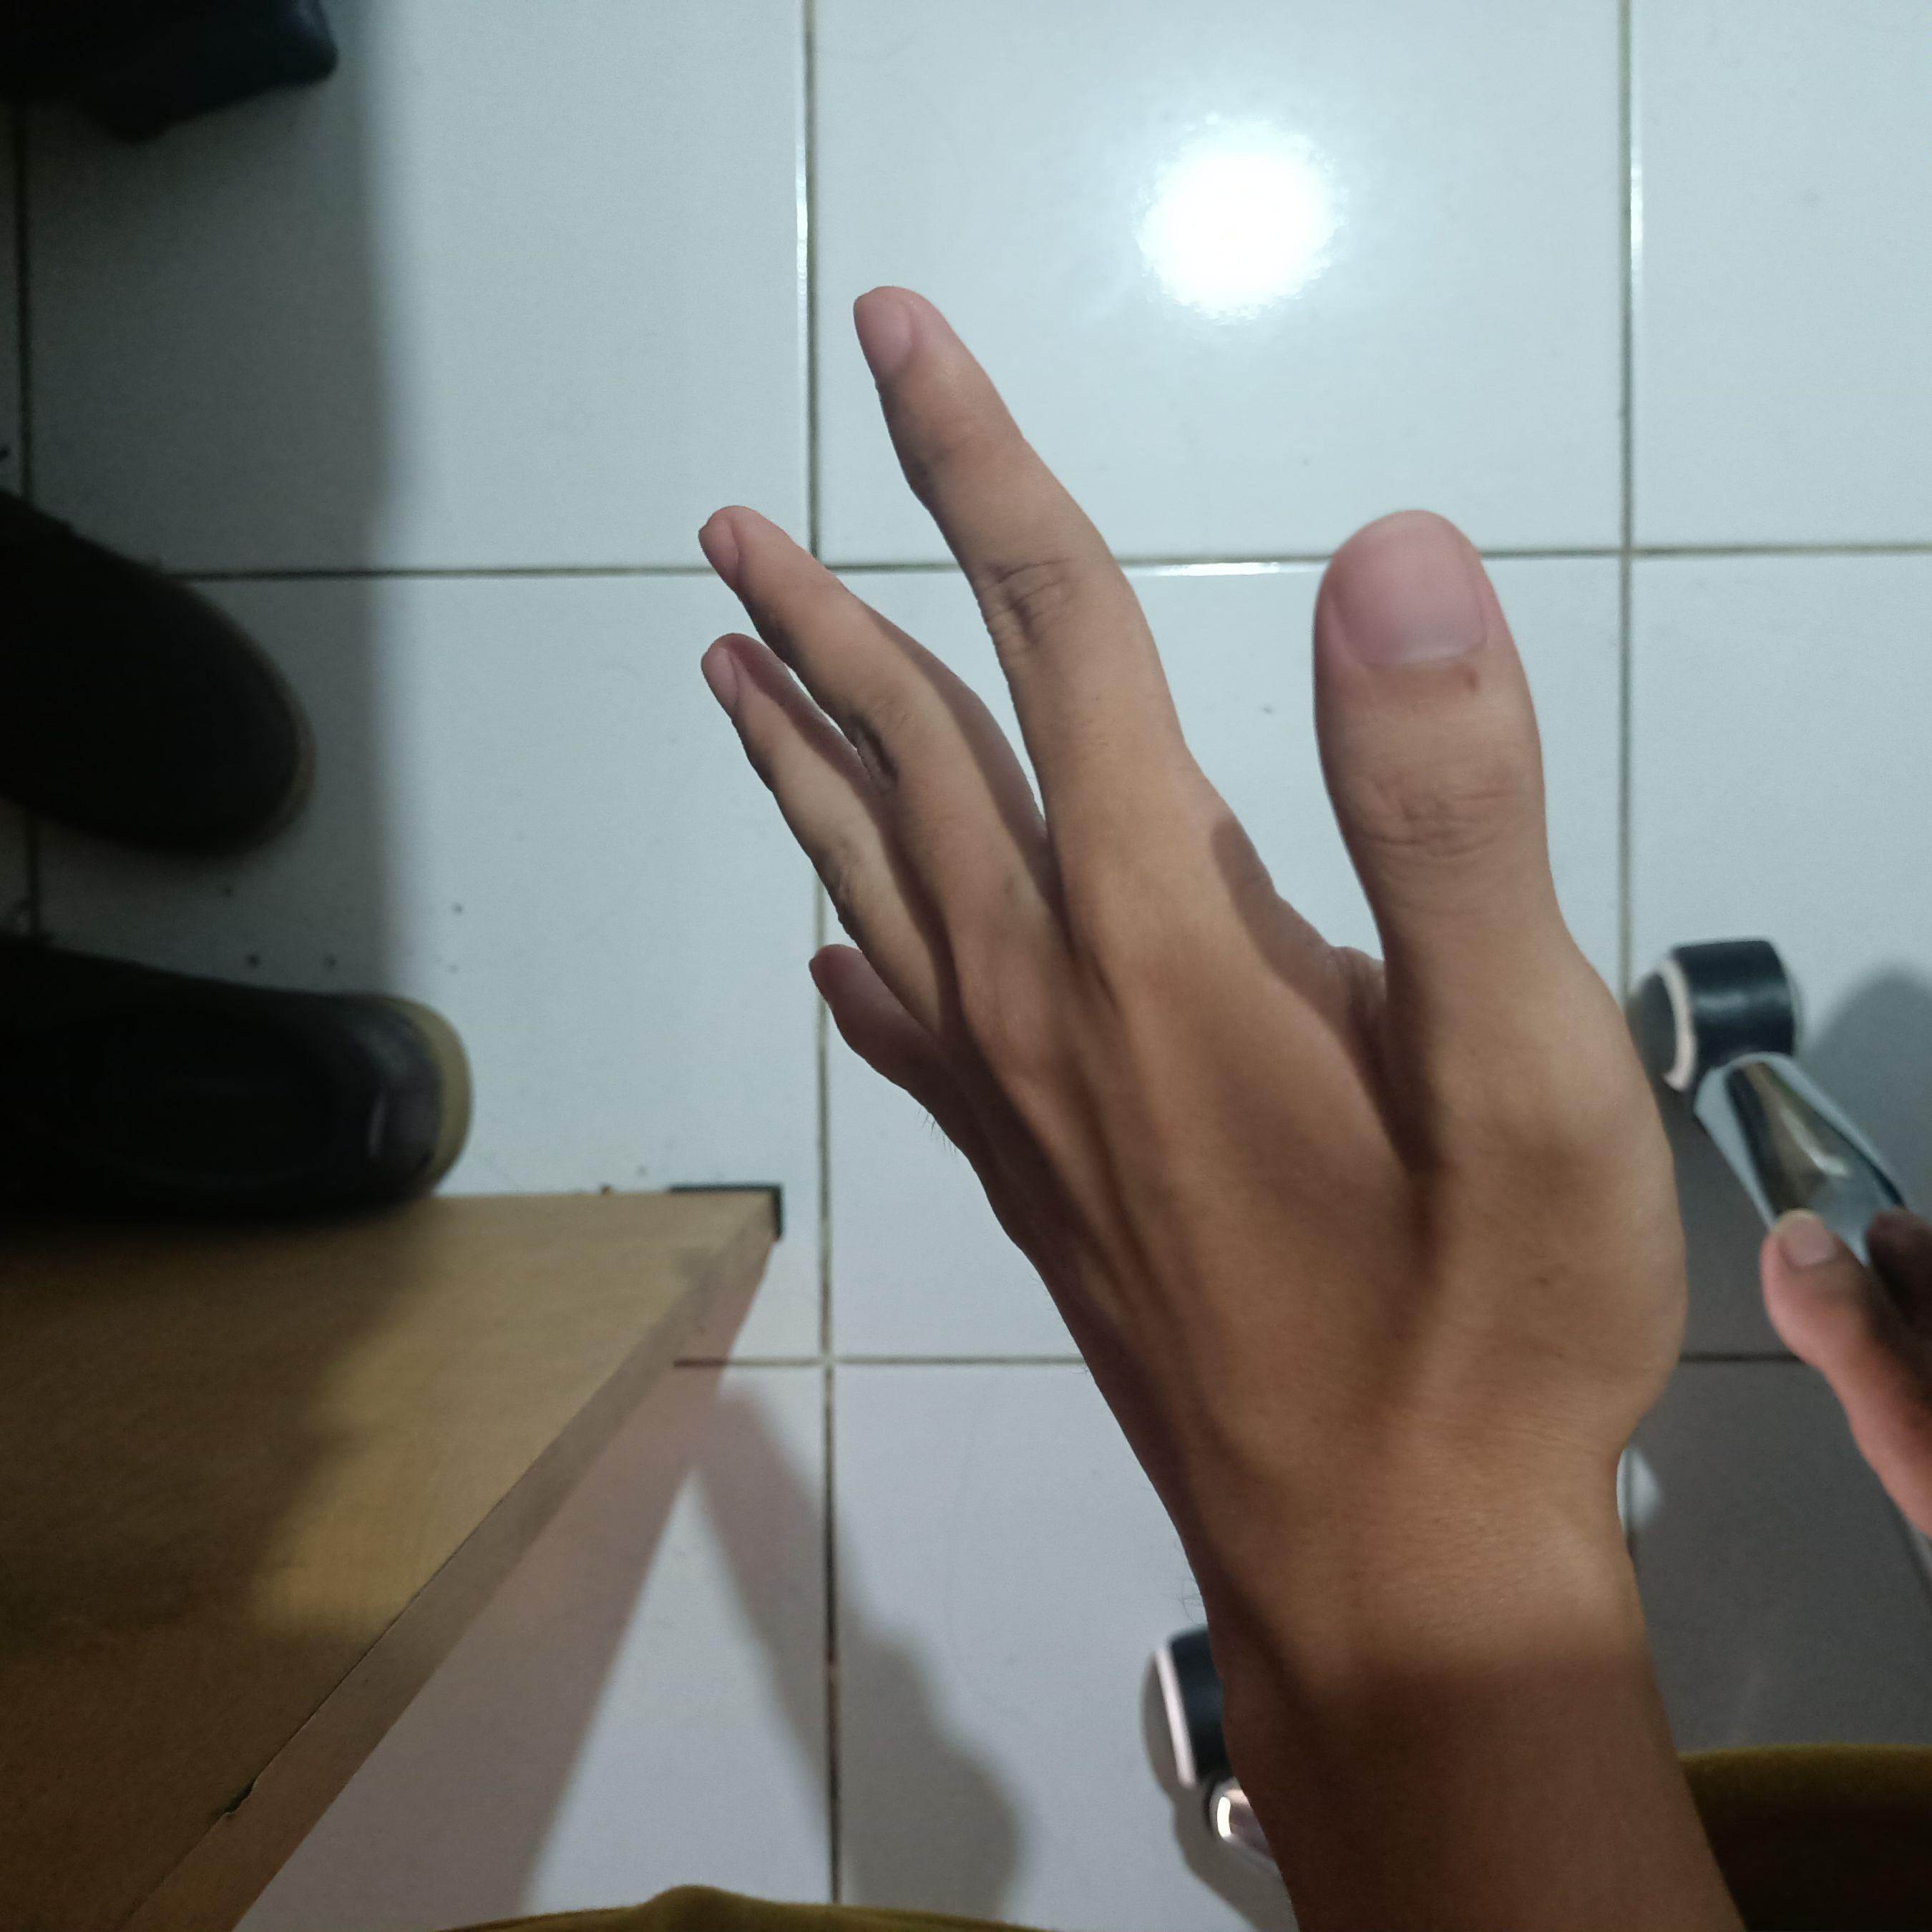paper: (663, 260, 1711, 1619)
